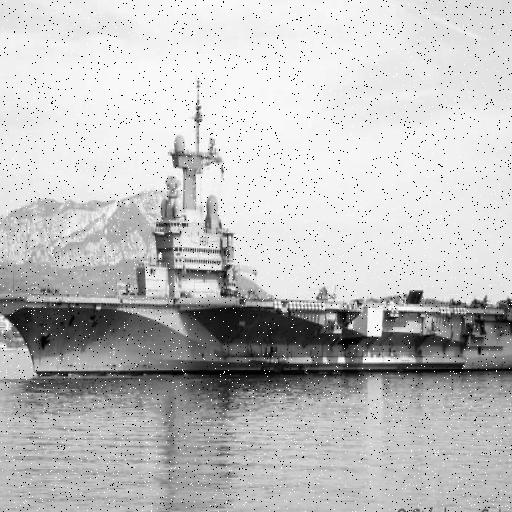Portanaves: (1, 71, 512, 375)
